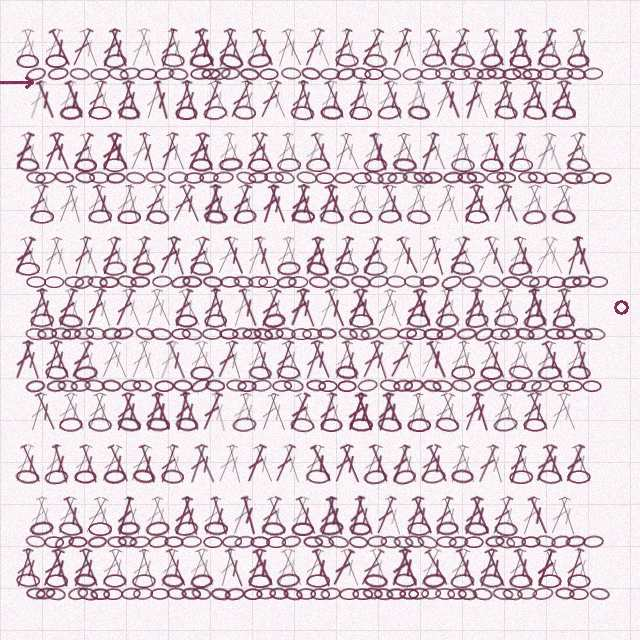chain: (218, 51, 244, 71), (305, 260, 330, 278), (392, 468, 417, 486), (522, 104, 548, 121), (464, 312, 490, 329), (116, 416, 142, 433), (189, 376, 212, 395), (247, 52, 272, 69), (450, 52, 475, 69), (377, 104, 402, 121), (551, 208, 576, 225), (508, 260, 533, 277), (435, 312, 460, 329), (508, 364, 533, 381), (377, 416, 402, 433), (435, 416, 460, 433), (493, 416, 518, 433), (421, 468, 446, 485), (29, 520, 54, 537), (145, 520, 170, 537), (174, 520, 199, 537), (319, 520, 344, 537), (276, 572, 301, 589), (440, 273, 463, 291), (473, 325, 496, 343), (53, 533, 76, 551), (416, 533, 439, 551), (480, 52, 504, 69), (407, 104, 431, 121), (494, 104, 518, 121), (233, 208, 257, 225), (262, 312, 286, 329), (132, 468, 156, 485), (363, 53, 388, 69), (203, 105, 228, 121), (290, 105, 315, 121), (363, 157, 388, 173), (392, 157, 417, 173), (566, 157, 591, 173), (203, 209, 228, 225), (319, 209, 344, 225), (406, 209, 431, 225), (522, 209, 547, 225), (334, 261, 359, 277), (58, 313, 83, 329), (73, 365, 98, 381), (290, 417, 315, 433), (15, 469, 40, 485), (44, 469, 69, 485), (363, 469, 388, 485), (537, 469, 562, 485), (58, 521, 83, 537), (261, 521, 286, 537), (464, 521, 489, 537), (363, 573, 388, 589), (450, 573, 475, 589), (479, 573, 504, 589), (73, 273, 95, 291), (209, 65, 232, 82), (103, 53, 127, 69), (117, 105, 141, 121), (16, 157, 40, 173), (146, 209, 170, 225), (132, 261, 156, 277), (523, 313, 547, 329), (552, 313, 576, 329), (248, 365, 272, 381), (494, 521, 518, 537), (161, 573, 185, 589), (190, 573, 214, 589), (189, 53, 214, 68), (218, 157, 243, 172), (363, 261, 388, 276), (450, 261, 475, 276), (276, 365, 301, 380), (537, 365, 562, 380), (232, 417, 257, 432), (511, 65, 533, 82), (363, 169, 385, 186), (313, 533, 335, 550), (107, 66, 130, 82), (528, 274, 551, 290), (348, 326, 371, 342), (520, 378, 543, 394), (530, 378, 553, 394), (327, 534, 350, 550), (76, 586, 99, 602), (161, 53, 185, 68), (335, 53, 359, 68), (422, 53, 446, 68), (59, 105, 83, 120), (552, 105, 576, 120), (88, 209, 112, 224), (291, 209, 315, 224), (378, 209, 402, 224), (103, 261, 127, 276), (277, 261, 301, 276), (30, 313, 54, 328), (494, 313, 518, 328), (335, 365, 359, 380), (451, 365, 475, 380), (567, 365, 591, 380), (59, 417, 83, 432), (88, 417, 112, 432), (146, 417, 170, 432), (175, 417, 199, 432), (103, 469, 127, 484), (306, 469, 330, 484), (117, 521, 141, 536), (204, 521, 228, 536), (16, 573, 40, 588), (393, 573, 417, 588), (422, 573, 446, 588), (25, 66, 47, 82), (335, 66, 357, 82), (380, 66, 402, 82), (235, 170, 257, 186), (412, 170, 434, 186), (170, 274, 192, 290), (134, 326, 156, 342), (252, 326, 274, 342), (337, 326, 359, 342), (514, 326, 536, 342), (421, 378, 443, 394), (494, 534, 516, 550), (282, 586, 304, 602), (538, 53, 561, 68), (567, 53, 590, 68), (233, 105, 256, 120), (320, 105, 343, 120), (190, 261, 213, 276), (407, 313, 430, 328), (45, 365, 68, 380), (161, 469, 184, 484), (451, 469, 474, 484), (436, 521, 459, 536), (74, 573, 97, 588), (88, 106, 112, 120), (103, 158, 127, 172), (277, 158, 301, 172), (306, 158, 330, 172), (451, 158, 475, 172), (480, 158, 504, 172), (509, 158, 533, 172), (30, 210, 54, 224), (117, 210, 141, 224), (349, 210, 373, 224), (465, 210, 489, 224), (16, 262, 40, 276), (349, 314, 373, 328), (190, 366, 214, 380), (349, 418, 373, 432), (407, 418, 431, 432), (523, 418, 547, 432), (509, 470, 533, 484), (567, 470, 591, 484), (88, 522, 112, 536), (407, 522, 431, 536), (103, 574, 127, 588), (132, 574, 156, 588), (248, 574, 272, 588), (306, 574, 330, 588), (509, 574, 533, 588), (538, 574, 562, 588), (567, 574, 591, 588), (47, 66, 69, 81), (119, 66, 141, 81), (300, 66, 322, 81), (296, 170, 318, 185), (402, 170, 424, 185), (116, 274, 138, 289), (85, 326, 107, 341), (499, 326, 521, 341), (379, 378, 401, 393), (550, 534, 572, 549), (67, 586, 89, 601), (532, 586, 554, 601), (16, 54, 39, 68), (45, 54, 68, 68), (509, 54, 532, 68), (175, 106, 198, 120), (349, 106, 372, 120), (74, 158, 97, 172), (190, 158, 213, 172), (248, 158, 271, 172), (175, 314, 198, 328), (204, 314, 227, 328), (480, 366, 503, 380), (320, 418, 343, 432), (74, 470, 97, 484), (291, 522, 314, 536), (349, 522, 372, 536), (45, 574, 68, 588), (154, 66, 175, 81), (351, 66, 372, 81), (54, 170, 75, 185), (274, 170, 295, 185), (466, 170, 487, 185), (527, 170, 548, 185), (575, 170, 596, 185), (350, 274, 371, 289), (368, 274, 389, 289), (481, 274, 502, 289), (113, 326, 134, 341), (360, 326, 381, 341), (436, 326, 457, 341), (527, 326, 548, 341), (283, 378, 304, 393), (357, 378, 378, 393), (403, 378, 424, 393), (451, 378, 472, 393), (473, 378, 494, 393), (25, 534, 46, 549), (148, 534, 169, 549), (281, 534, 302, 549), (404, 534, 425, 549), (535, 534, 556, 549), (35, 586, 56, 601), (191, 586, 212, 601), (35, 171, 57, 185), (308, 275, 330, 289), (461, 275, 483, 289), (25, 327, 47, 341), (150, 327, 172, 341), (181, 327, 203, 341), (584, 327, 606, 341), (129, 535, 151, 549), (492, 587, 514, 601), (69, 67, 90, 81), (168, 67, 189, 81), (239, 67, 260, 81), (402, 67, 423, 81), (476, 67, 497, 81), (566, 67, 587, 81), (125, 171, 146, 185), (377, 171, 398, 185), (387, 171, 408, 185), (562, 171, 583, 185), (87, 275, 108, 289), (202, 275, 223, 289), (233, 275, 254, 289), (276, 275, 297, 289), (329, 275, 350, 289), (561, 275, 582, 289), (61, 327, 82, 341), (456, 327, 477, 341), (572, 327, 593, 341), (25, 379, 46, 393), (46, 379, 67, 393), (57, 379, 78, 393), (132, 379, 153, 393), (432, 379, 453, 393), (87, 535, 108, 549), (234, 535, 255, 549), (348, 535, 369, 549), (380, 535, 401, 549), (393, 535, 414, 549), (448, 535, 469, 549), (45, 587, 66, 601), (210, 587, 231, 601), (224, 587, 245, 601), (373, 587, 394, 601), (457, 587, 478, 601), (472, 587, 493, 601), (502, 587, 523, 601), (589, 587, 610, 601), (190, 67, 211, 80), (220, 67, 241, 80), (463, 67, 484, 80), (486, 67, 507, 80), (145, 171, 166, 184), (213, 171, 234, 184), (419, 275, 440, 288), (275, 327, 296, 340), (379, 327, 400, 340), (70, 379, 91, 392), (84, 379, 105, 392), (101, 379, 122, 392), (226, 379, 247, 392), (251, 379, 272, 392), (117, 535, 138, 548), (181, 535, 202, 548), (565, 535, 586, 548), (583, 535, 604, 548), (166, 587, 187, 600), (320, 587, 341, 600), (362, 587, 383, 600), (408, 587, 429, 600), (281, 67, 301, 80), (435, 67, 455, 80), (553, 67, 573, 80), (583, 67, 603, 80), (26, 171, 46, 184), (75, 171, 95, 184), (89, 171, 109, 184), (168, 171, 188, 184), (199, 171, 219, 184), (248, 171, 268, 184), (264, 171, 284, 184), (423, 171, 443, 184), (443, 171, 463, 184), (457, 171, 477, 184), (486, 171, 506, 184), (496, 171, 516, 184), (518, 171, 538, 184), (152, 275, 172, 288), (182, 275, 202, 288), (386, 275, 406, 288), (404, 275, 424, 288), (520, 275, 540, 288), (572, 275, 592, 288), (37, 327, 57, 340), (51, 327, 71, 340), (74, 327, 94, 340), (102, 327, 122, 340), (232, 327, 252, 340), (264, 327, 284, 340), (317, 327, 337, 340), (397, 327, 417, 340), (121, 379, 141, 392), (173, 379, 193, 392), (205, 379, 225, 392), (306, 379, 326, 392), (393, 379, 413, 392), (492, 379, 512, 392), (506, 379, 526, 392), (222, 535, 242, 548), (367, 535, 387, 548), (485, 535, 505, 548), (26, 587, 46, 600), (121, 587, 141, 600), (133, 587, 153, 600), (181, 587, 201, 600), (256, 587, 276, 600), (269, 587, 289, 600), (421, 587, 441, 600), (517, 587, 537, 600), (555, 587, 575, 600), (420, 68, 441, 80), (258, 276, 279, 288), (291, 328, 312, 340), (406, 328, 427, 340), (436, 536, 457, 548), (352, 588, 373, 600), (90, 68, 110, 80), (137, 68, 157, 80), (201, 68, 221, 80), (259, 68, 279, 80), (320, 68, 340, 80), (364, 68, 384, 80), (450, 68, 470, 80), (502, 68, 522, 80), (522, 68, 542, 80), (537, 68, 557, 80), (106, 172, 126, 184), (184, 172, 204, 184), (315, 172, 335, 184), (334, 172, 354, 184), (352, 172, 372, 184), (544, 172, 564, 184), (592, 172, 612, 184), (26, 276, 46, 288), (44, 276, 64, 288), (64, 276, 84, 288), (99, 276, 119, 288), (130, 276, 150, 288), (220, 276, 240, 288), (248, 276, 268, 288), (288, 276, 308, 288), (501, 276, 521, 288), (546, 276, 566, 288), (588, 276, 608, 288), (171, 328, 191, 340), (202, 328, 222, 340), (219, 328, 239, 340), (242, 328, 262, 340), (302, 328, 322, 340), (423, 328, 443, 340), (490, 328, 510, 340), (545, 328, 565, 340), (556, 328, 576, 340), (154, 380, 174, 392), (237, 380, 257, 392), (272, 380, 292, 392), (318, 380, 338, 392), (337, 380, 357, 392), (549, 380, 569, 392), (563, 380, 583, 392), (582, 380, 602, 392), (44, 536, 64, 548), (68, 536, 88, 548), (107, 536, 127, 548), (164, 536, 184, 548), (203, 536, 223, 548), (250, 536, 270, 548), (266, 536, 286, 548), (303, 536, 323, 548), (464, 536, 484, 548), (506, 536, 526, 548), (521, 536, 541, 548), (90, 588, 110, 600), (103, 588, 123, 600), (150, 588, 170, 600), (243, 588, 263, 600), (296, 588, 316, 600), (310, 588, 330, 600), (339, 588, 359, 600), (386, 588, 406, 600), (399, 588, 419, 600), (435, 588, 455, 600), (447, 588, 467, 600), (569, 588, 589, 600)
double: (356, 547, 387, 588), (422, 547, 453, 588), (81, 495, 111, 536), (539, 339, 568, 381), (473, 443, 502, 485), (38, 547, 67, 589), (46, 27, 75, 68), (357, 27, 386, 68), (205, 79, 234, 120), (226, 79, 255, 120), (183, 131, 212, 172), (249, 131, 278, 172), (568, 131, 597, 172), (168, 183, 197, 224), (104, 235, 133, 276), (394, 235, 423, 276), (452, 235, 481, 276), (473, 235, 502, 276), (531, 235, 560, 276), (176, 287, 205, 328), (67, 339, 96, 380), (386, 339, 415, 380), (292, 391, 321, 432), (429, 391, 458, 432), (307, 443, 336, 484), (531, 443, 560, 484), (278, 547, 307, 588), (328, 547, 357, 588), (192, 27, 220, 69), (540, 27, 568, 69), (97, 131, 125, 173), (184, 235, 212, 277), (256, 287, 284, 329), (322, 287, 350, 329), (163, 339, 191, 381), (227, 391, 255, 433), (192, 443, 220, 485), (250, 443, 278, 485), (337, 443, 365, 485), (482, 547, 510, 589), (68, 27, 96, 68), (221, 27, 249, 68), (250, 27, 278, 68), (279, 27, 307, 68), (424, 27, 452, 68), (453, 27, 481, 68), (256, 79, 284, 120), (372, 79, 400, 120), (546, 79, 574, 120), (18, 131, 46, 172), (68, 131, 96, 172), (105, 131, 133, 172), (242, 131, 270, 172), (308, 131, 336, 172), (337, 131, 365, 172), (395, 131, 423, 172), (140, 183, 168, 224), (380, 183, 408, 224), (467, 183, 495, 224), (546, 183, 574, 224), (10, 235, 38, 276), (155, 235, 183, 276), (213, 235, 241, 276), (540, 235, 568, 276), (148, 287, 176, 328), (351, 287, 379, 328), (401, 287, 429, 328), (192, 339, 220, 380), (213, 339, 241, 380), (279, 339, 307, 380), (358, 339, 386, 380), (416, 339, 444, 380), (474, 339, 502, 380), (482, 339, 510, 380), (511, 339, 539, 380), (32, 391, 60, 432), (61, 391, 89, 432), (285, 391, 313, 432), (525, 391, 553, 432), (97, 443, 125, 484), (105, 443, 133, 484), (126, 443, 154, 484), (416, 443, 444, 484), (424, 443, 452, 484), (540, 443, 568, 484), (256, 495, 284, 536), (293, 495, 321, 536), (409, 495, 437, 536), (488, 495, 516, 536), (97, 547, 125, 588), (163, 547, 191, 588), (250, 547, 278, 588), (416, 547, 444, 588), (445, 547, 473, 588), (517, 79, 544, 121), (300, 131, 327, 173), (532, 131, 559, 173), (540, 131, 567, 173), (459, 183, 486, 225), (372, 287, 399, 329), (155, 339, 182, 381), (532, 339, 559, 381), (561, 339, 588, 381), (343, 391, 370, 433), (532, 547, 559, 589), (39, 27, 66, 68), (184, 27, 211, 68), (300, 27, 327, 68), (308, 27, 335, 68), (416, 27, 443, 68), (445, 27, 472, 68), (474, 27, 501, 68), (482, 27, 509, 68), (532, 27, 559, 68), (561, 27, 588, 68), (264, 79, 291, 120), (322, 79, 349, 120), (467, 79, 494, 120), (525, 79, 552, 120), (47, 131, 74, 172), (126, 131, 153, 172), (163, 131, 190, 172), (221, 131, 248, 172), (424, 131, 451, 172), (561, 131, 588, 172), (24, 183, 51, 224), (32, 183, 59, 224), (90, 183, 117, 224), (148, 183, 175, 224), (177, 183, 204, 224), (235, 183, 262, 224), (322, 183, 349, 224), (351, 183, 378, 224), (372, 183, 399, 224), (496, 183, 523, 224), (525, 183, 552, 224), (18, 235, 45, 276), (192, 235, 219, 276), (358, 235, 385, 276), (366, 235, 393, 276), (416, 235, 443, 276), (445, 235, 472, 276), (482, 235, 509, 276), (511, 235, 538, 276), (82, 287, 109, 328), (111, 287, 138, 328), (119, 287, 146, 328), (264, 287, 291, 328), (438, 287, 465, 328), (496, 287, 523, 328), (47, 339, 74, 380), (97, 339, 124, 380), (105, 339, 132, 380), (308, 339, 335, 380), (424, 339, 451, 380), (445, 339, 472, 380), (53, 391, 80, 432), (90, 391, 117, 432), (119, 391, 146, 432), (177, 391, 204, 432), (198, 391, 225, 432), (380, 391, 407, 432), (438, 391, 465, 432), (496, 391, 523, 432), (554, 391, 581, 432), (18, 443, 45, 484), (242, 443, 269, 484), (271, 443, 298, 484), (300, 443, 327, 484), (366, 443, 393, 484), (561, 443, 588, 484), (569, 443, 596, 484), (53, 495, 80, 536), (61, 495, 88, 536), (264, 495, 291, 536), (372, 495, 399, 536), (525, 495, 552, 536), (546, 495, 573, 536), (184, 547, 211, 588), (192, 547, 219, 588), (300, 547, 327, 588), (387, 547, 414, 588), (453, 547, 480, 588), (511, 547, 538, 588), (11, 27, 37, 69), (77, 27, 103, 69), (106, 27, 132, 69), (396, 27, 422, 69), (381, 79, 407, 121), (483, 131, 509, 173), (54, 183, 80, 225), (489, 183, 515, 225), (135, 235, 161, 277), (243, 235, 269, 277), (301, 235, 327, 277), (170, 287, 196, 329), (294, 287, 320, 329), (381, 287, 407, 329), (410, 287, 436, 329), (468, 287, 494, 329), (547, 287, 573, 329), (77, 339, 103, 381), (185, 339, 211, 381), (330, 339, 356, 381), (396, 339, 422, 381), (265, 391, 291, 433), (352, 391, 378, 433), (460, 391, 486, 433), (185, 443, 211, 485), (396, 443, 422, 485), (454, 443, 480, 485), (33, 495, 59, 537), (228, 495, 254, 537), (286, 495, 312, 537), (352, 495, 378, 537), (439, 495, 465, 537), (460, 495, 486, 537), (69, 547, 95, 589), (222, 547, 248, 589), (243, 547, 269, 589), (272, 547, 298, 589), (309, 547, 335, 589), (127, 27, 153, 68), (135, 27, 161, 68), (388, 27, 414, 68), (33, 79, 59, 120), (62, 79, 88, 120), (83, 79, 109, 120), (91, 79, 117, 120), (431, 79, 457, 120), (439, 79, 465, 120), (555, 79, 581, 120), (11, 131, 37, 172), (40, 131, 66, 172), (280, 131, 306, 172), (475, 131, 501, 172), (228, 183, 254, 224), (286, 183, 312, 224), (410, 183, 436, 224), (431, 183, 457, 224), (518, 183, 544, 224), (555, 183, 581, 224), (77, 235, 103, 276), (127, 235, 153, 276), (222, 235, 248, 276), (330, 235, 356, 276), (54, 287, 80, 328), (236, 287, 262, 328), (286, 287, 312, 328), (315, 287, 341, 328), (344, 287, 370, 328), (489, 287, 515, 328), (526, 287, 552, 328), (127, 339, 153, 380), (83, 391, 109, 432), (149, 391, 175, 432), (518, 391, 544, 432), (547, 391, 573, 432), (11, 443, 37, 484), (69, 443, 95, 484), (214, 443, 240, 484), (330, 443, 356, 484), (359, 443, 385, 484), (91, 495, 117, 536), (149, 495, 175, 536), (468, 495, 494, 536), (77, 547, 103, 588), (106, 547, 132, 588), (338, 547, 364, 588), (367, 547, 393, 588), (396, 547, 422, 588), (541, 547, 567, 588), (19, 27, 44, 69), (98, 27, 123, 69), (214, 27, 239, 69), (243, 27, 268, 69), (330, 27, 355, 69), (504, 27, 529, 69), (512, 27, 537, 69), (570, 27, 595, 69), (25, 79, 50, 121), (120, 79, 145, 121), (199, 79, 224, 121), (402, 79, 427, 121), (489, 79, 514, 121), (497, 79, 522, 121), (77, 131, 102, 173), (193, 131, 218, 173), (367, 131, 392, 173), (388, 131, 413, 173), (417, 131, 442, 173), (454, 131, 479, 173), (504, 131, 529, 173), (512, 131, 537, 173), (83, 183, 108, 225), (112, 183, 137, 225), (207, 183, 232, 225), (265, 183, 290, 225), (315, 183, 340, 225), (344, 183, 369, 225), (402, 183, 427, 225), (40, 235, 65, 277), (48, 235, 73, 277), (98, 235, 123, 277), (272, 235, 297, 277), (280, 235, 305, 277), (309, 235, 334, 277), (388, 235, 413, 277), (570, 235, 595, 277), (25, 287, 50, 329), (62, 287, 87, 329), (91, 287, 116, 329), (141, 287, 166, 329), (555, 287, 580, 329), (11, 339, 36, 381), (243, 339, 268, 381), (251, 339, 276, 381), (272, 339, 297, 381), (301, 339, 326, 381), (112, 391, 137, 433), (257, 391, 282, 433), (315, 391, 340, 433), (323, 391, 348, 433), (410, 391, 435, 433), (489, 391, 514, 433), (77, 443, 102, 485), (156, 443, 181, 485), (164, 443, 189, 485), (280, 443, 305, 485), (388, 443, 413, 485), (446, 443, 471, 485), (512, 443, 537, 485), (141, 495, 166, 537), (170, 495, 195, 537), (199, 495, 224, 537), (323, 495, 348, 537), (431, 495, 456, 537), (497, 495, 522, 537), (518, 495, 543, 537), (156, 547, 181, 589), (475, 547, 500, 589), (504, 547, 529, 589), (562, 547, 587, 589), (165, 27, 189, 69), (273, 27, 297, 69), (368, 27, 392, 69), (55, 79, 79, 121), (113, 79, 137, 121), (171, 79, 195, 121), (287, 79, 311, 121), (295, 79, 319, 121), (316, 79, 340, 121), (345, 79, 369, 121), (411, 79, 435, 121), (157, 131, 181, 173), (331, 131, 355, 173), (360, 131, 384, 173), (447, 131, 471, 173), (200, 183, 224, 225), (258, 183, 282, 225), (440, 183, 464, 225), (70, 235, 94, 277), (165, 235, 189, 277), (252, 235, 276, 277), (505, 235, 529, 277), (34, 287, 58, 329), (208, 287, 232, 329), (229, 287, 253, 329), (461, 287, 485, 329), (20, 339, 44, 381), (41, 339, 65, 381), (136, 339, 160, 381), (339, 339, 363, 381), (368, 339, 392, 381), (505, 339, 529, 381), (26, 391, 50, 433), (142, 391, 166, 433), (237, 391, 261, 433), (469, 391, 493, 433), (49, 443, 73, 485), (136, 443, 160, 485), (484, 443, 508, 485), (505, 443, 529, 485), (26, 495, 50, 537), (121, 495, 145, 537), (179, 495, 203, 537), (208, 495, 232, 537), (316, 495, 340, 537), (382, 495, 406, 537), (403, 495, 427, 537), (556, 495, 580, 537), (12, 547, 36, 589), (49, 547, 73, 589), (128, 547, 152, 589), (136, 547, 160, 589), (157, 27, 180, 69), (339, 27, 362, 69), (142, 79, 165, 121), (179, 79, 202, 121), (461, 79, 484, 121), (215, 131, 238, 173), (273, 131, 296, 173), (63, 183, 86, 225), (295, 183, 318, 225), (339, 235, 362, 277), (426, 235, 449, 277), (563, 235, 586, 277), (200, 287, 223, 329), (223, 339, 246, 381), (571, 339, 594, 381), (208, 391, 231, 433), (374, 391, 397, 433), (113, 495, 136, 537), (20, 547, 43, 589), (151, 79, 173, 121), (137, 131, 159, 173), (433, 287, 455, 329), (520, 287, 542, 329), (456, 339, 478, 381), (404, 391, 426, 433), (224, 443, 246, 485), (354, 79, 376, 120), (122, 183, 144, 224), (42, 443, 64, 484), (238, 495, 260, 536), (346, 495, 368, 536), (216, 547, 238, 588), (572, 547, 594, 588), (172, 391, 193, 432), (239, 79, 259, 120)
noise: (0, 75, 36, 90), (612, 298, 631, 317)
